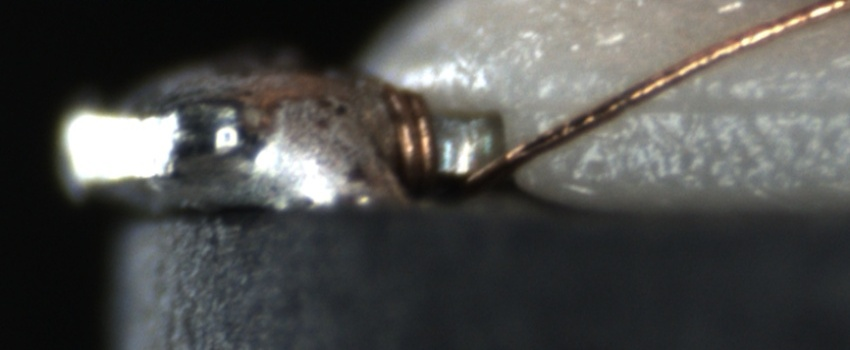DL: (560, 73, 850, 137)
TE: (373, 80, 460, 194)
